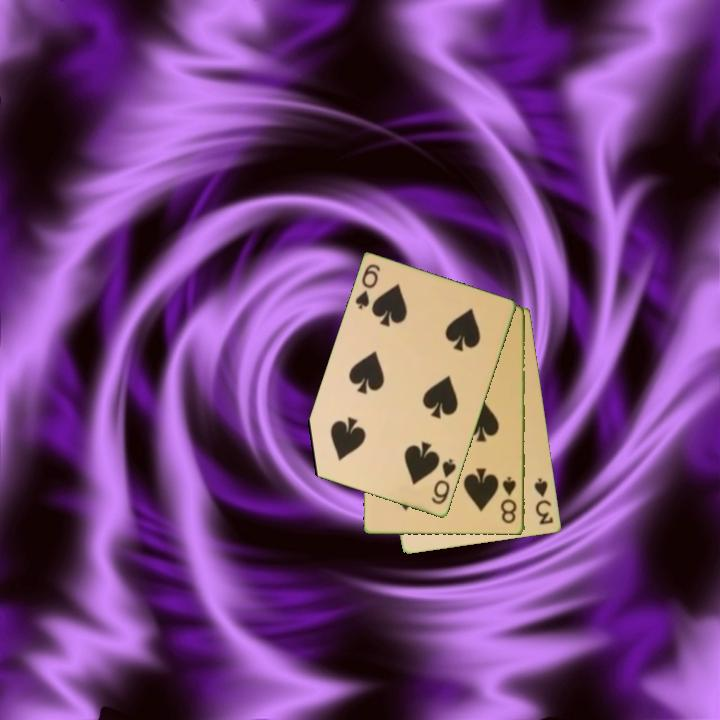3s: (531, 475, 557, 528)
6s: (428, 456, 459, 508), (352, 261, 383, 313)
8s: (499, 474, 519, 527)
